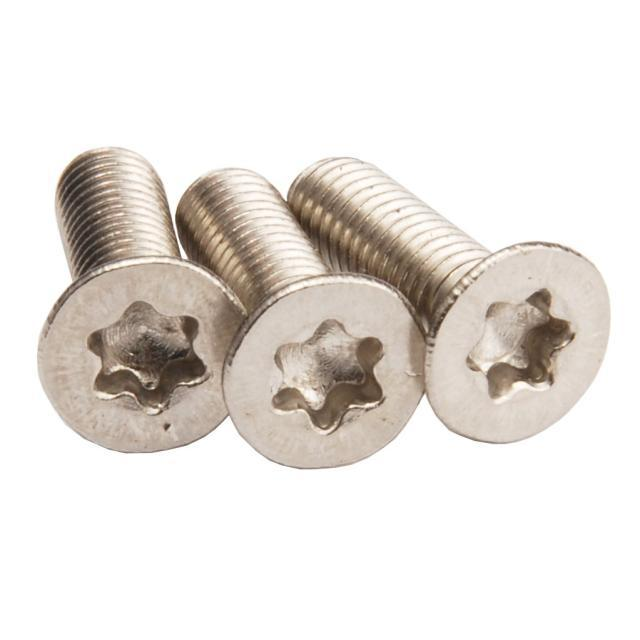torx: (85, 300, 214, 418), (268, 317, 388, 437), (467, 289, 578, 406)
